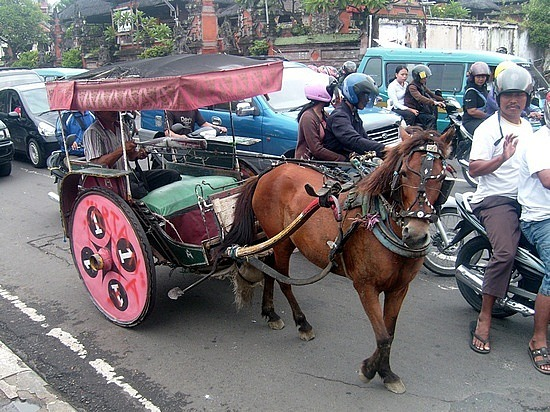horse: (224, 120, 455, 395)
